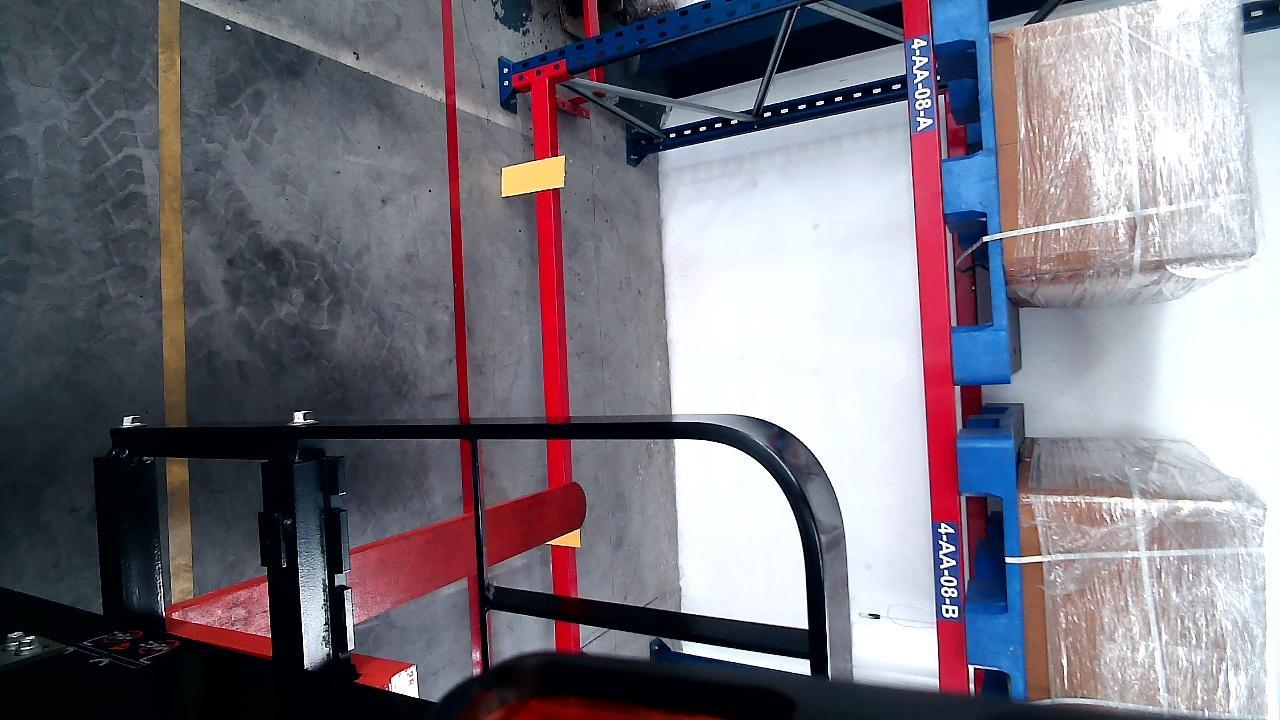red_line: (441, 1, 468, 417)
yellow_line: (159, 0, 190, 603)
